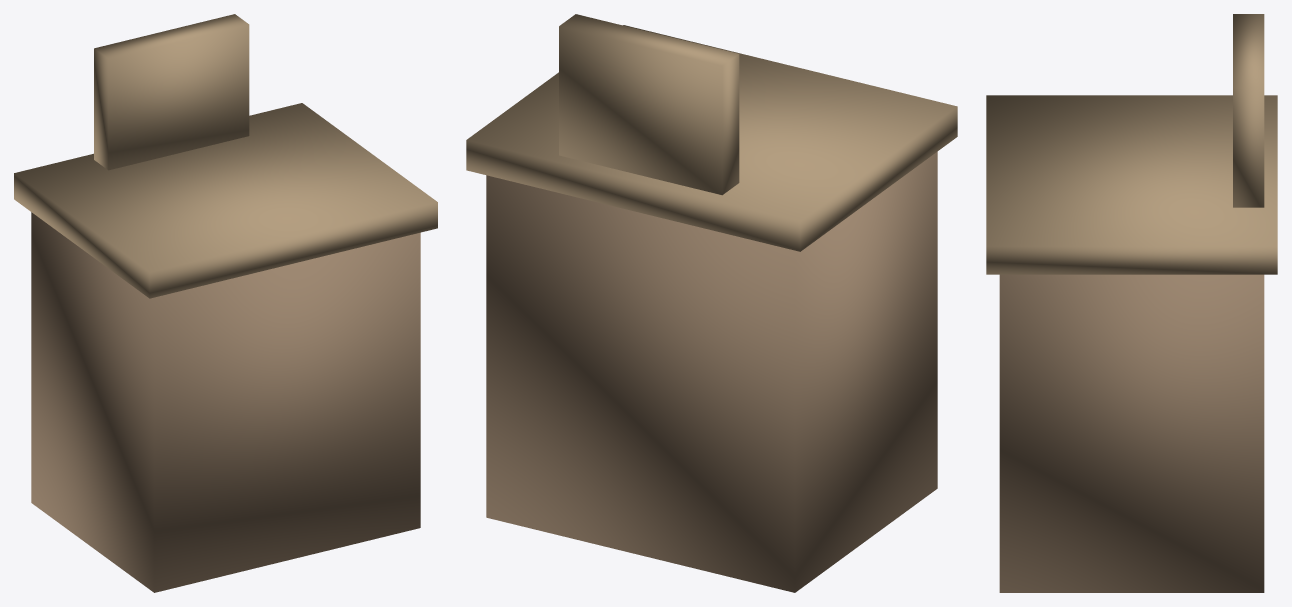
Rendered from witness_stand.glb.
3 renders of one model, left to right at view 1: azimuth 30°, elevation 25°; view 2: azimuth 150°, elevation 25°; view 3: azimuth 270°, elevation 25°, orthographic. The views are drawn at different scales.
Parts seen in each view (by area): view 1: world; view 2: world; view 3: world.
Boxes of the visible parts, <box> form: world: <box>14,14,437,592</box>; world: <box>466,14,957,592</box>; world: <box>986,14,1277,592</box>.
Size of the model in its own units: 0.92 by 1.34 by 0.75.
